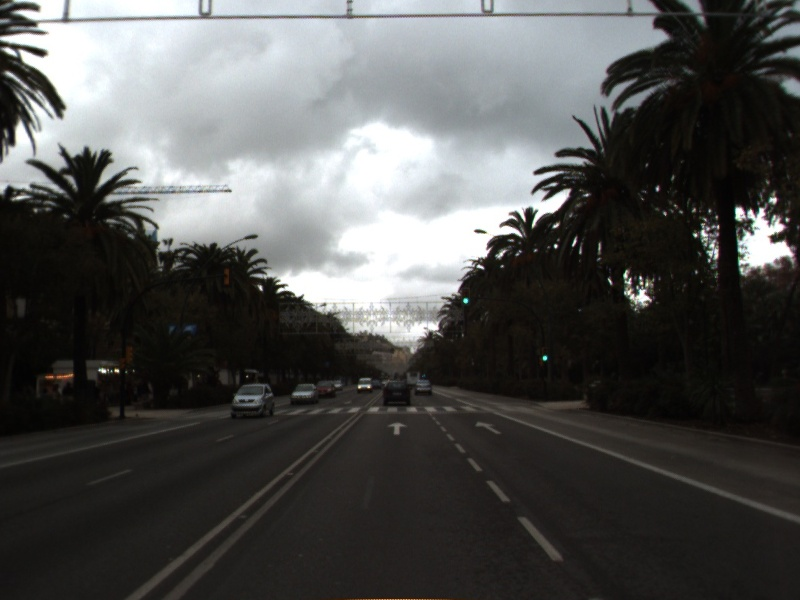STRAIGHT: (473, 419, 504, 437), (385, 420, 410, 437)
